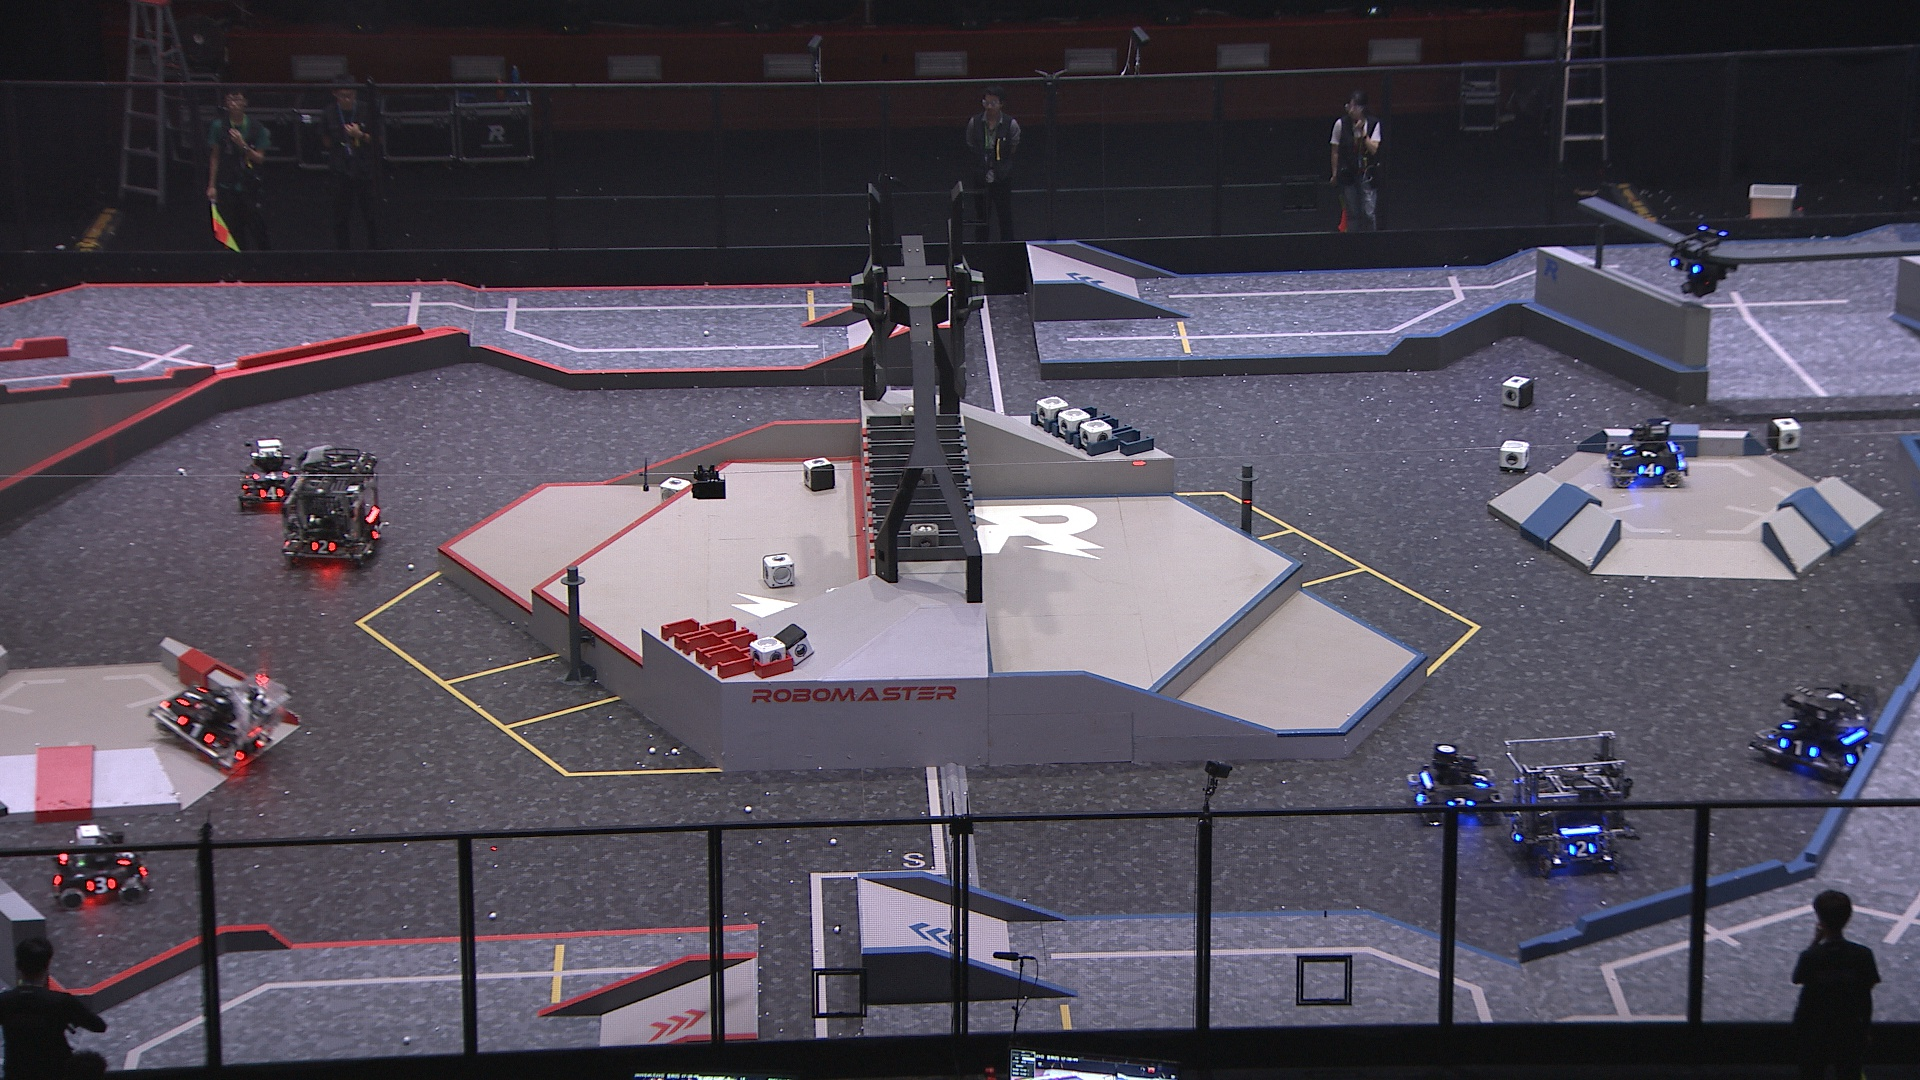armor: (175, 713, 215, 746), (1782, 737, 1821, 760), (83, 874, 120, 897), (1669, 255, 1702, 277), (177, 684, 207, 707), (1845, 742, 1869, 766), (253, 469, 291, 484), (309, 538, 338, 556), (1567, 840, 1596, 858), (1782, 713, 1807, 732), (258, 485, 287, 501), (1636, 462, 1664, 477), (1472, 770, 1493, 789), (113, 849, 135, 866), (253, 731, 276, 746), (1447, 796, 1476, 808), (1509, 823, 1524, 844), (1618, 442, 1636, 458), (371, 524, 385, 542)
car: (1501, 728, 1636, 874), (1743, 679, 1883, 782), (148, 666, 277, 773), (278, 444, 386, 571), (49, 825, 150, 911), (1404, 745, 1506, 827), (1607, 419, 1691, 489), (233, 438, 301, 512)
watcher: (1669, 225, 1741, 301)
